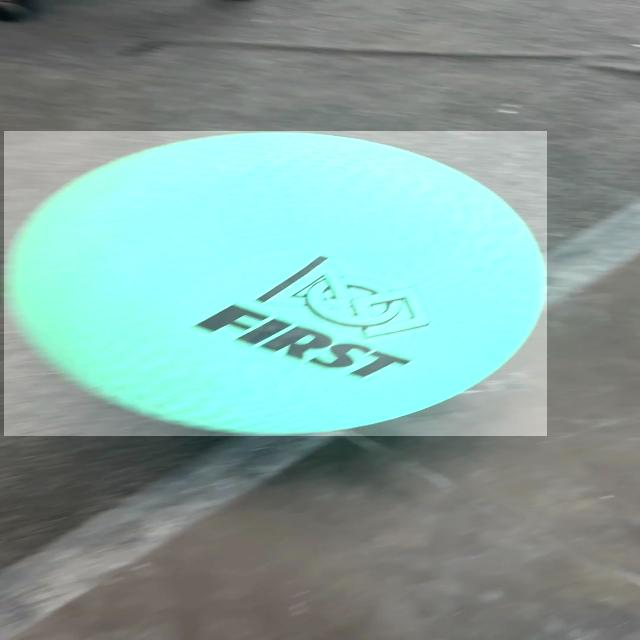Algae: (4, 131, 547, 436)
